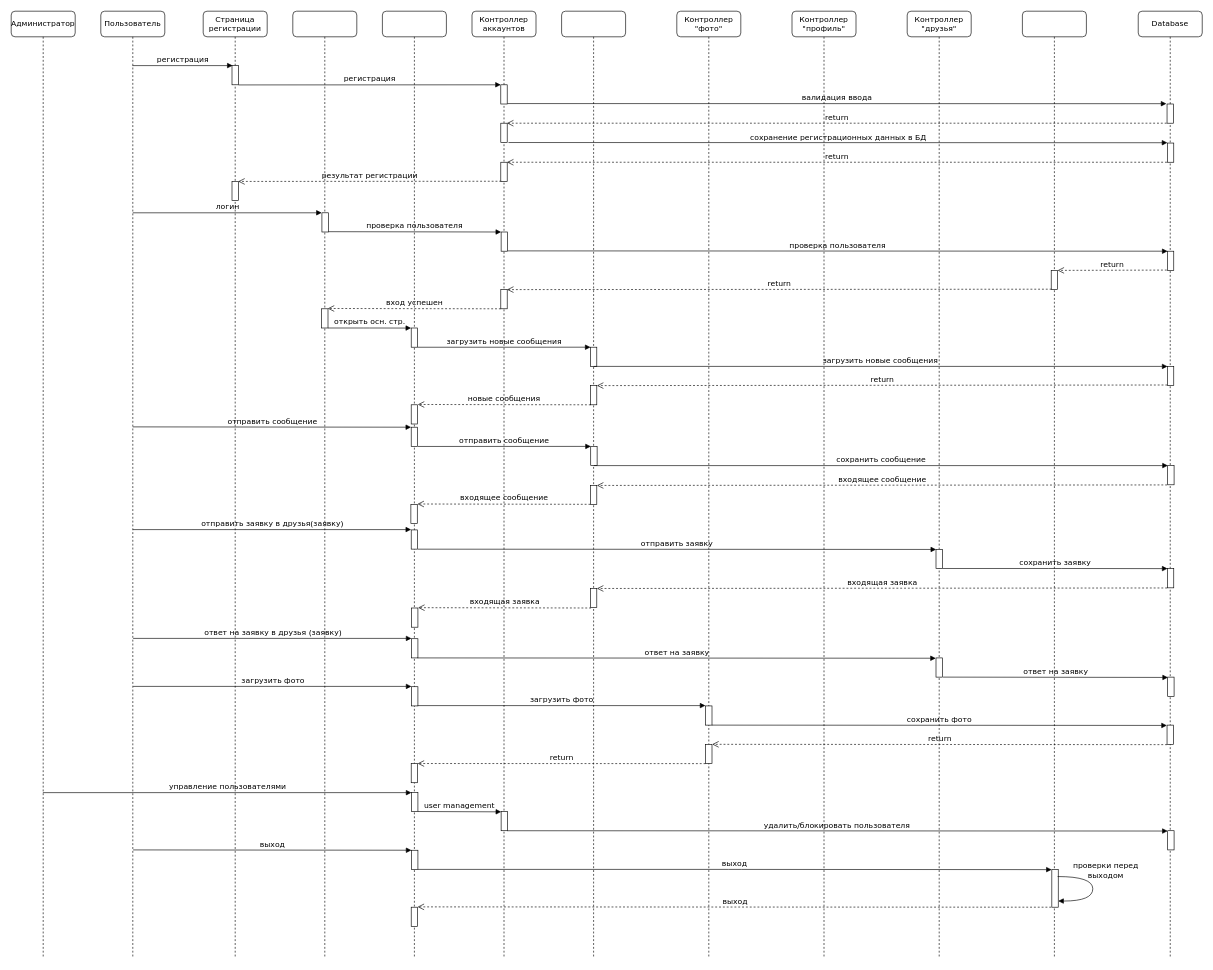
Some shapes in this 1213 by 970 pixel diagram are drawn without their labels. Each missing label, with the box of its shape:
контроллер сеансов: (1022, 11, 1086, 958)
Контроллер сообщений: (561, 11, 626, 958)
Основная страница: (382, 11, 446, 958)
Страница входа: (292, 11, 357, 958)
